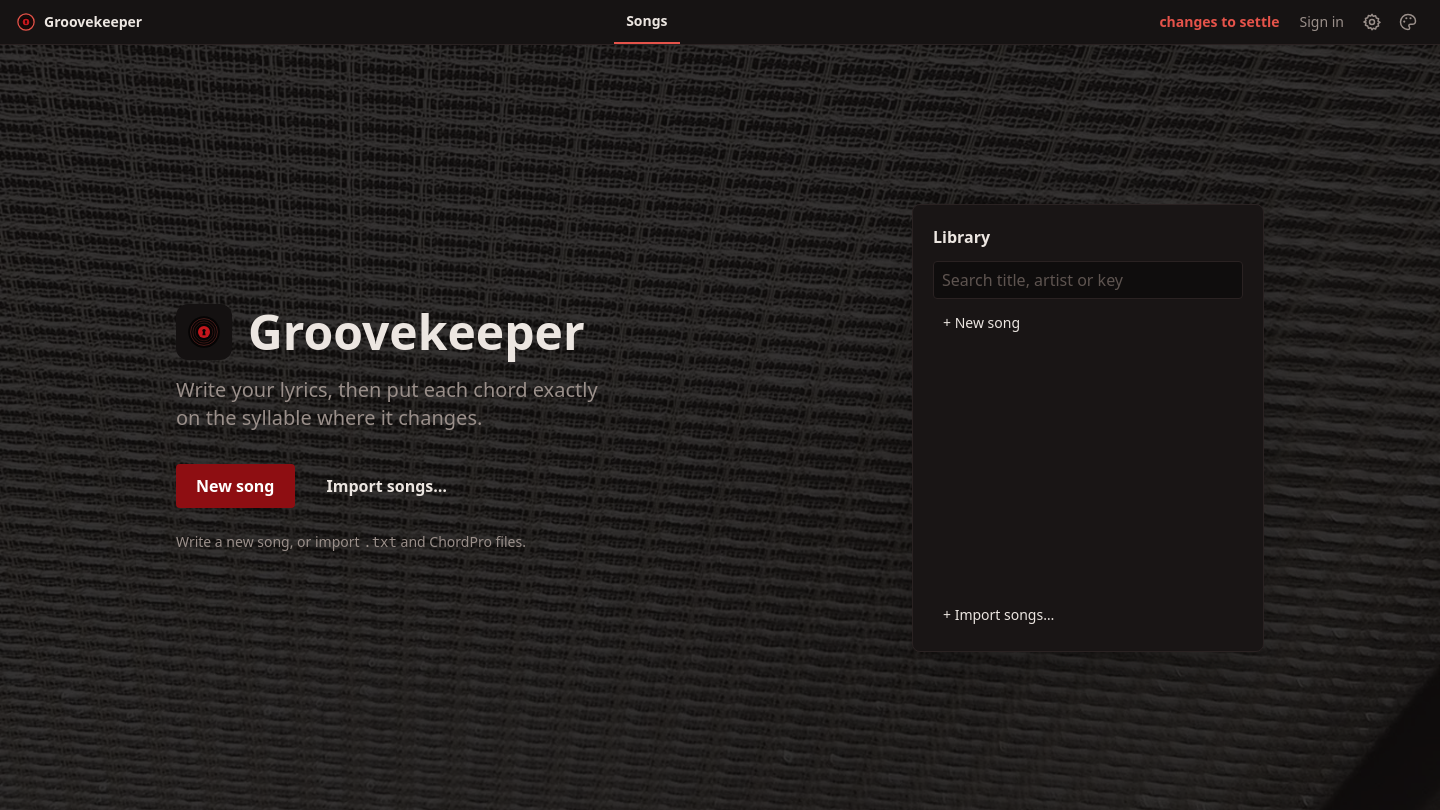
Scenario: themes › puts the keyboard on the theme in use, and back on the button after Escape
Click the button named "Theme: Amp" at coordinates (1408, 22), box [1392, 6, 1424, 38]
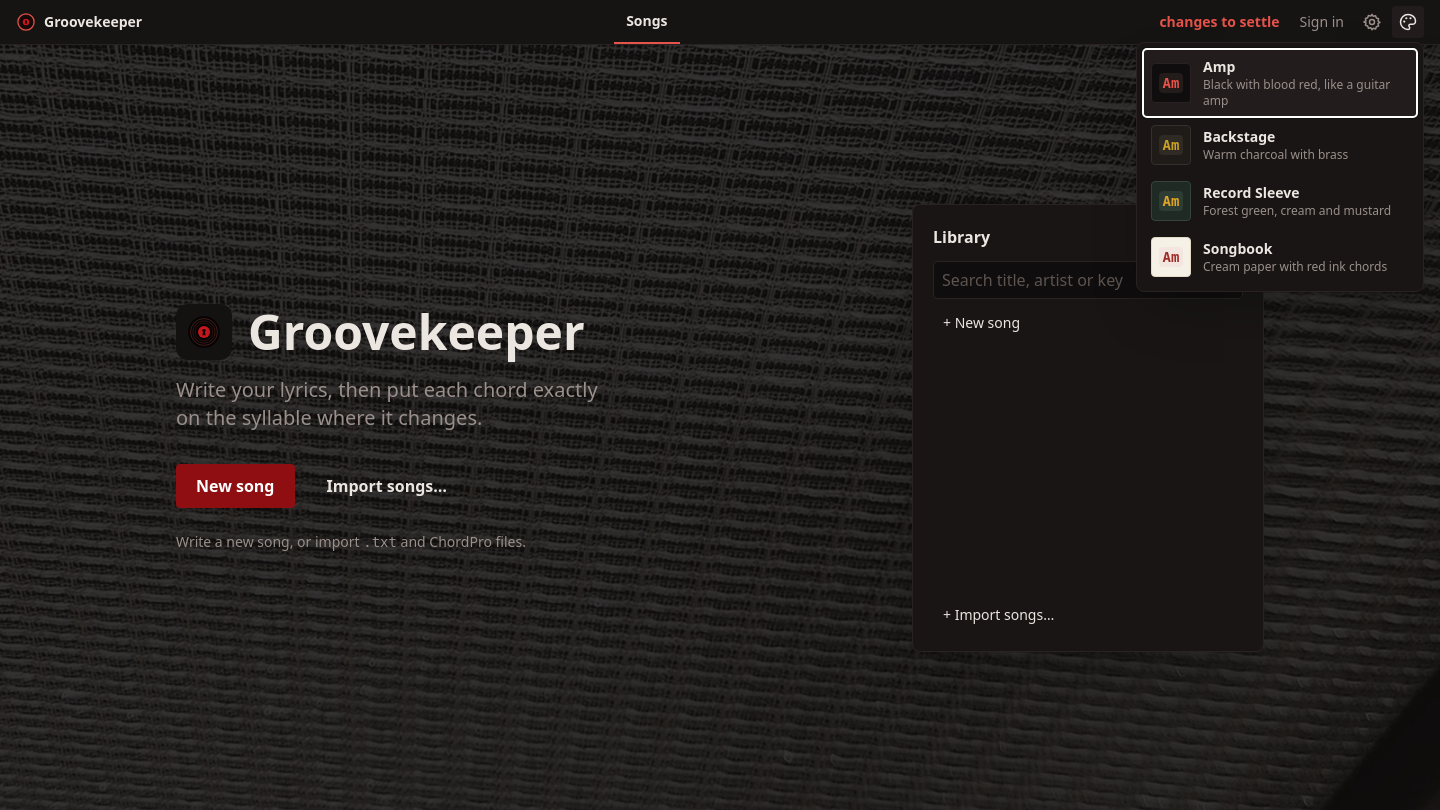
Press Escape
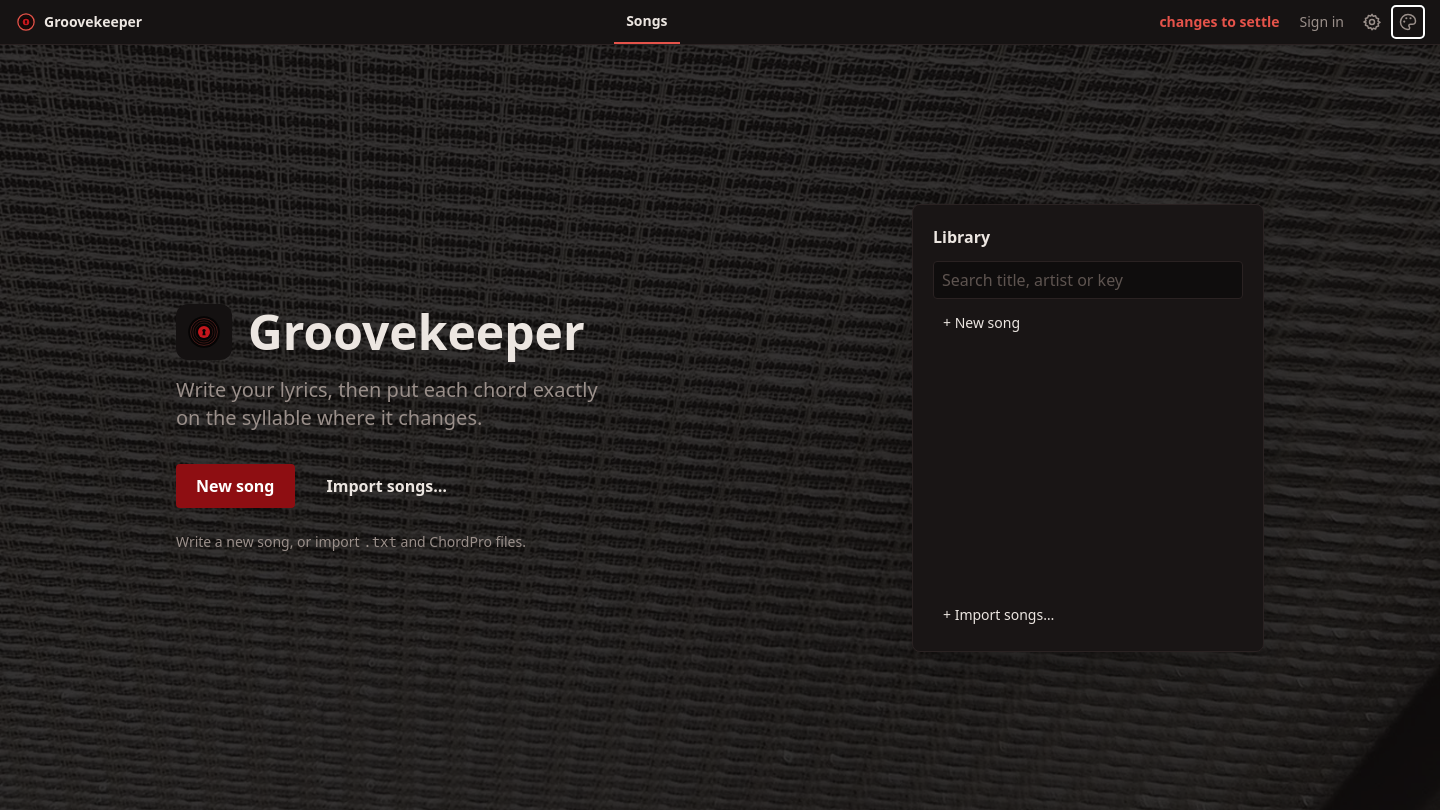
Expected: the element "Theme" is gone
